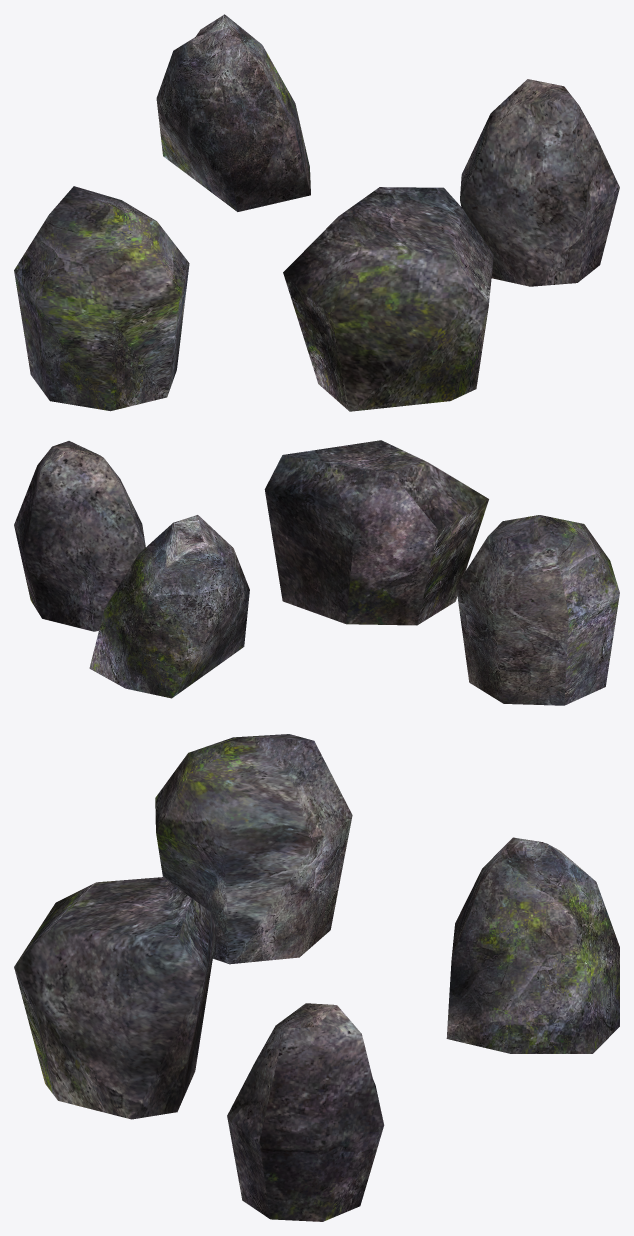
The model's file is cairn_02_05.glb.
3 renders of one model, top to bottom at view 1: azimuth 30°, elevation 25°; view 2: azimuth 150°, elevation 25°; view 3: azimuth 270°, elevation 25°, orthographic. The views are drawn at different scales.
Visible parts, largest first — view 1: cairn_02_05; view 2: cairn_02_05; view 3: cairn_02_05.
Part boxes in pixels (box(x1,y1,x2,y2)): cairn_02_05: box(14, 14, 619, 411); cairn_02_05: box(14, 440, 619, 705); cairn_02_05: box(14, 734, 619, 1221).
Bounding box in the file's own units: 20.5 × 7.14 × 16.21.
Materials: 1 (1 with a texture image).
